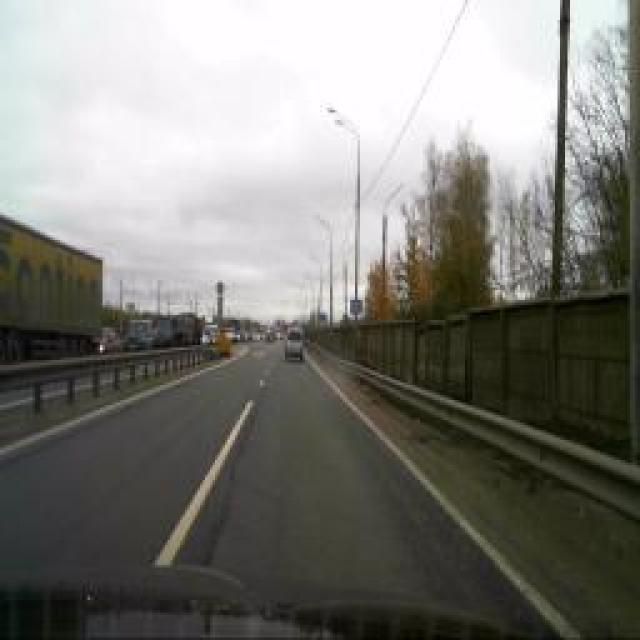sign: (350, 297, 362, 315)
